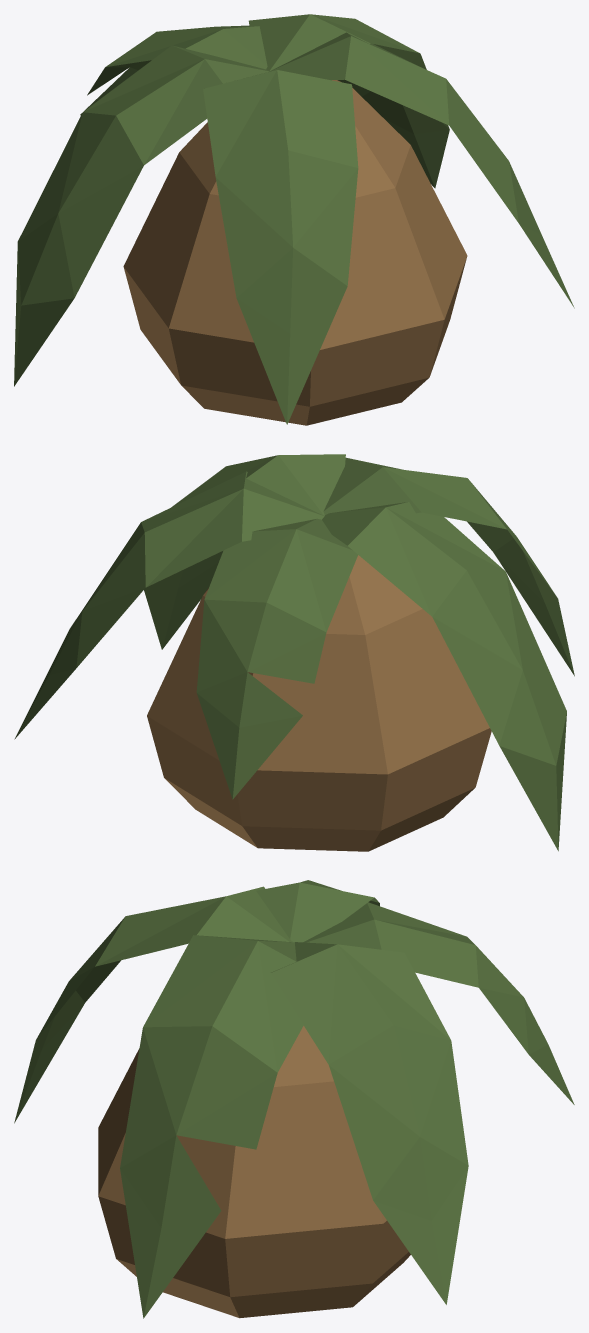
Rendered from tree_palm_02.fbx.
3 views of the same model, one above another, from view 1: azimuth 30°, elevation 25°; view 2: azimuth 150°, elevation 25°; view 3: azimuth 270°, elevation 25° (orthographic). The views are drawn at different scales.
Visible parts, largest first — view 1: tree_palm_02; view 2: tree_palm_02; view 3: tree_palm_02.
Part boxes in pixels (box(x1,y1,x2,y2)): tree_palm_02: box(14, 14, 574, 425); tree_palm_02: box(14, 454, 574, 851); tree_palm_02: box(14, 880, 574, 1318).
Bounding box in the file's own units: 305 × 199 × 291.
